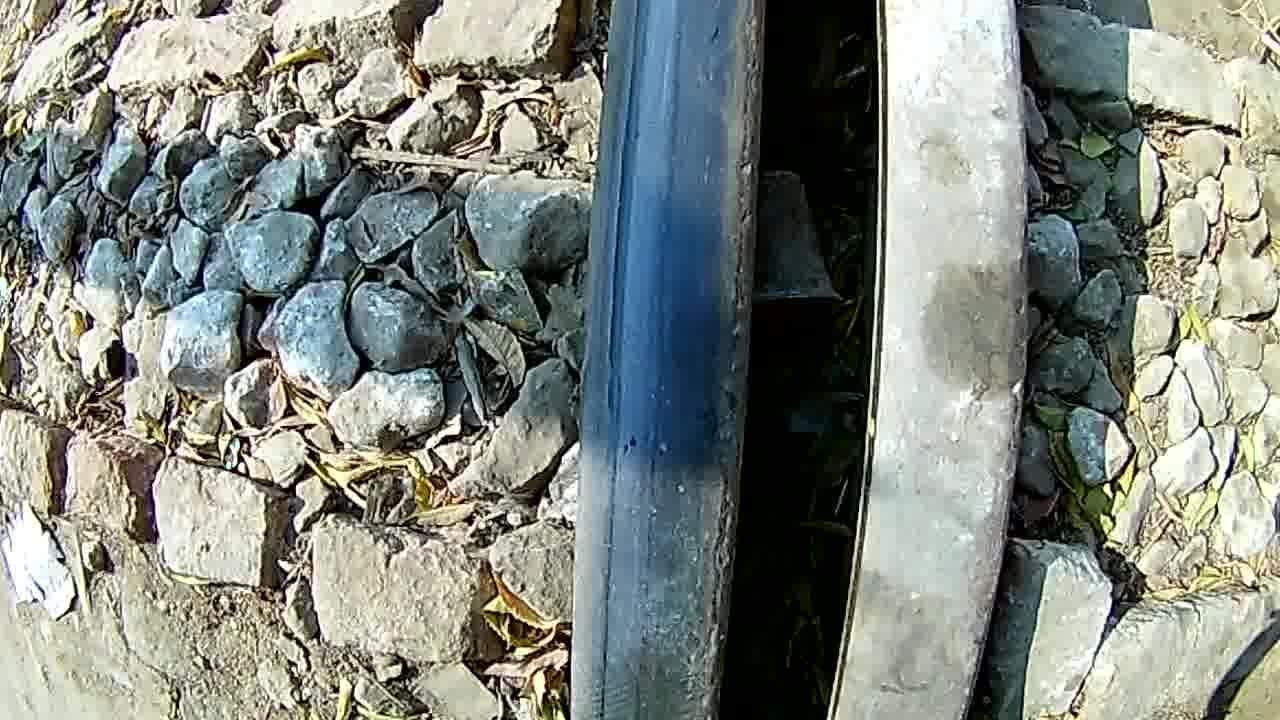crack: (568, 0, 772, 720)
